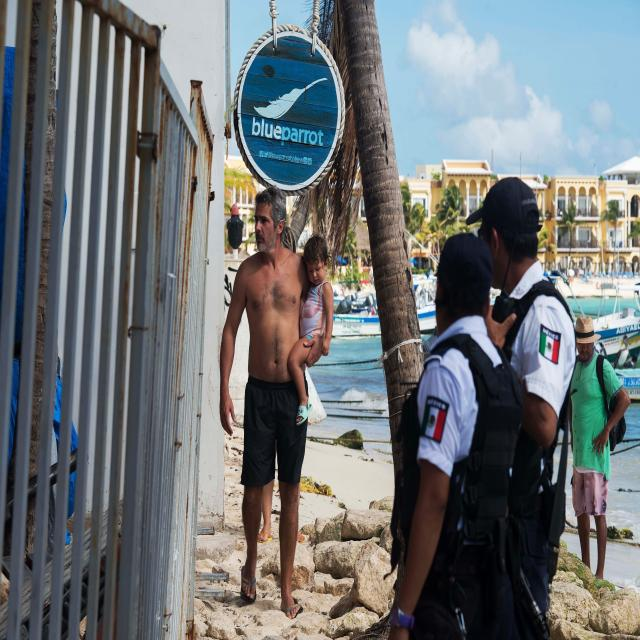body: (374, 228, 545, 640), (461, 168, 582, 640), (216, 184, 332, 624), (559, 313, 631, 599), (287, 234, 334, 426), (509, 242, 640, 291)
